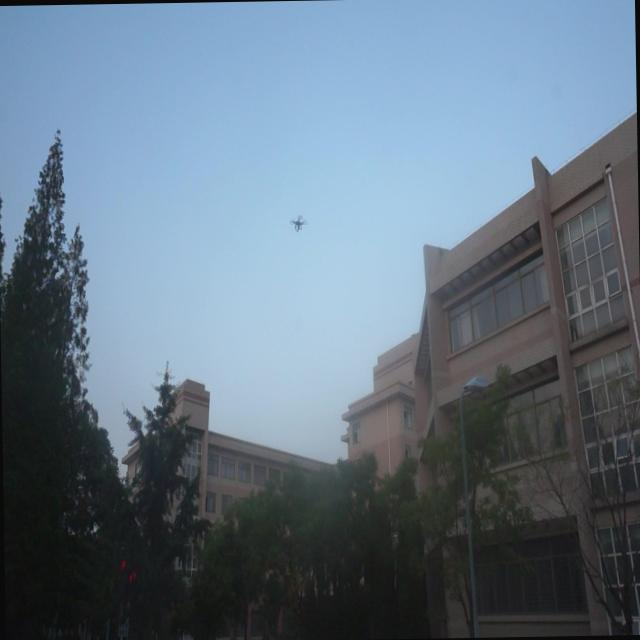drone: (288, 210, 310, 236)
